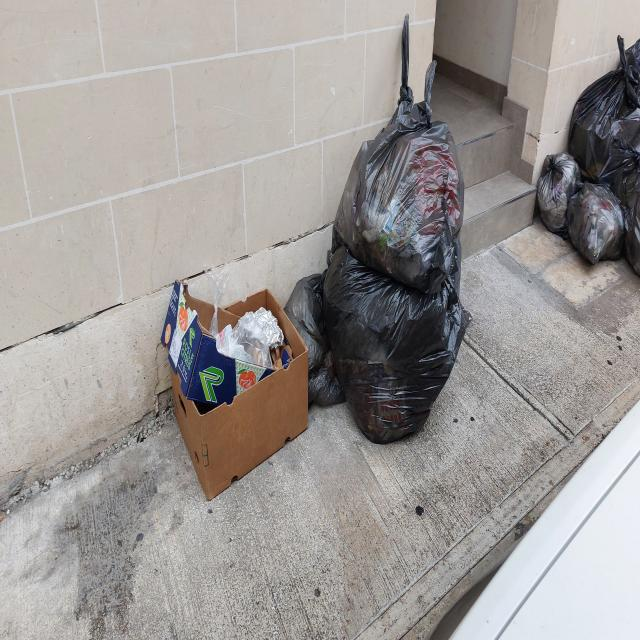Mixed Waste -Black Bag-: (328, 12, 466, 301), (323, 244, 474, 447), (569, 35, 640, 184), (285, 273, 347, 409), (567, 182, 626, 267), (610, 138, 640, 278), (538, 151, 583, 242), (617, 39, 640, 74)
Other: (163, 278, 310, 502)
